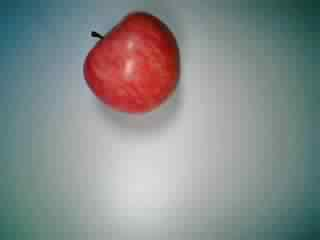apple: (80, 12, 184, 113)
